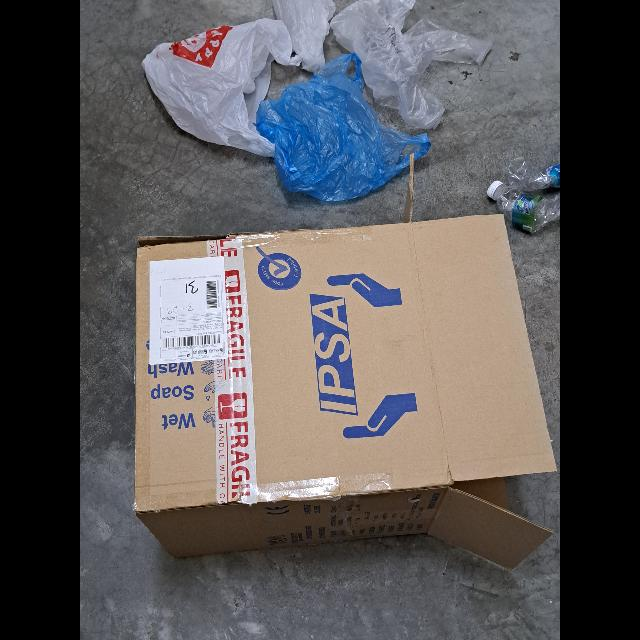garrafa plástica: (494, 180, 560, 228), (518, 154, 560, 188)
papelão: (120, 157, 560, 573)
sacola plástica: (256, 57, 428, 199), (332, 1, 486, 129), (140, 22, 284, 158), (264, 1, 340, 74)
tampa plástica: (488, 175, 500, 199)
